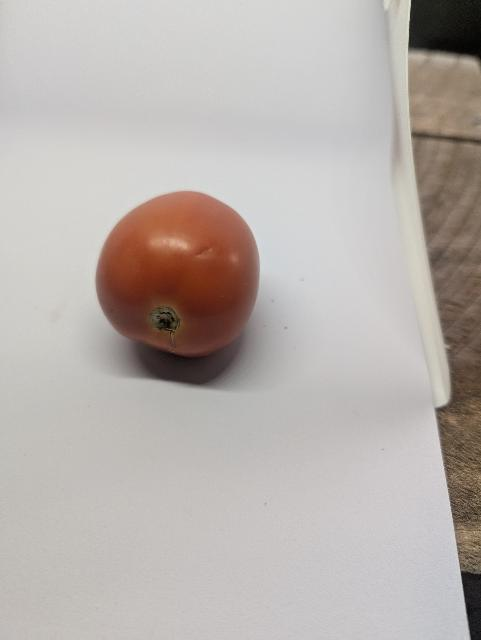red: (77, 182, 283, 384)
